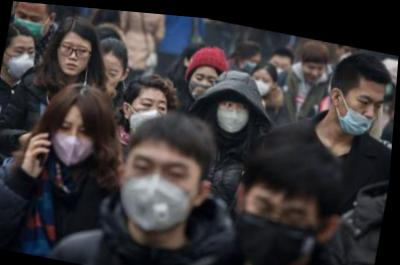NONE: (54, 36, 93, 79), (302, 55, 328, 81)
OK: (120, 144, 203, 232), (236, 186, 325, 265), (52, 115, 103, 169), (127, 87, 173, 141), (1, 38, 40, 81), (11, 4, 49, 43), (216, 93, 253, 132), (189, 64, 222, 100), (251, 67, 274, 94), (269, 53, 293, 76), (240, 46, 261, 69)
WRONG: (342, 76, 387, 135)
